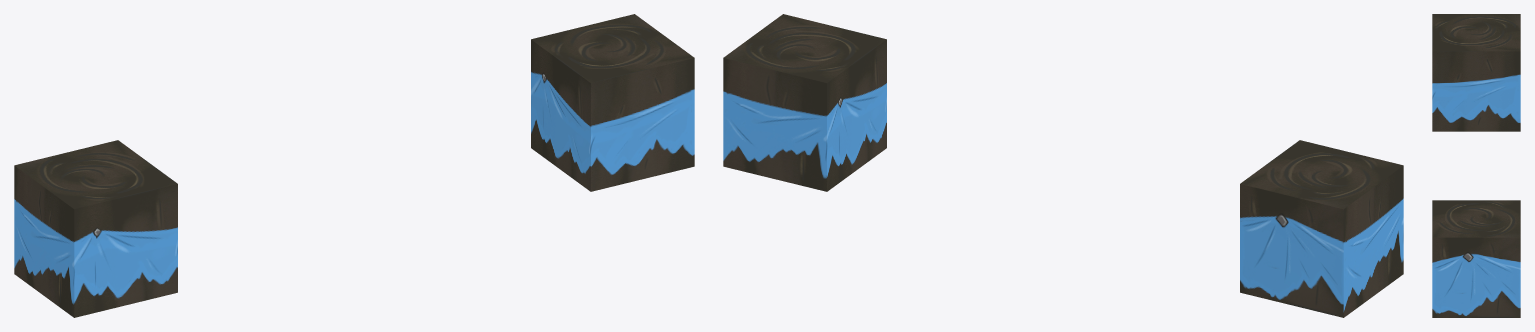
Rendered from polysurface580_txt_cube1_0_lev1_lev2.glb.
3 views of the same model, side by side, from view 1: azimuth 30°, elevation 25°; view 2: azimuth 150°, elevation 25°; view 3: azimuth 270°, elevation 25° (orthographic). The views are drawn at different scales.
Parts seen in each view (by area): view 1: polysurface580_txt_cube1_0_lev1_lev2; view 2: polysurface580_txt_cube1_0_lev1_lev2; view 3: polysurface580_txt_cube1_0_lev1_lev2.
Part boxes in pixels (<box>): polysurface580_txt_cube1_0_lev1_lev2: <box>14,14,694,317</box>; polysurface580_txt_cube1_0_lev1_lev2: <box>723,14,1403,317</box>; polysurface580_txt_cube1_0_lev1_lev2: <box>1432,14,1520,317</box>.
Size of the model in its own units: 4.61 by 0.7719 by 0.7719.
1 material, 1 textured.
